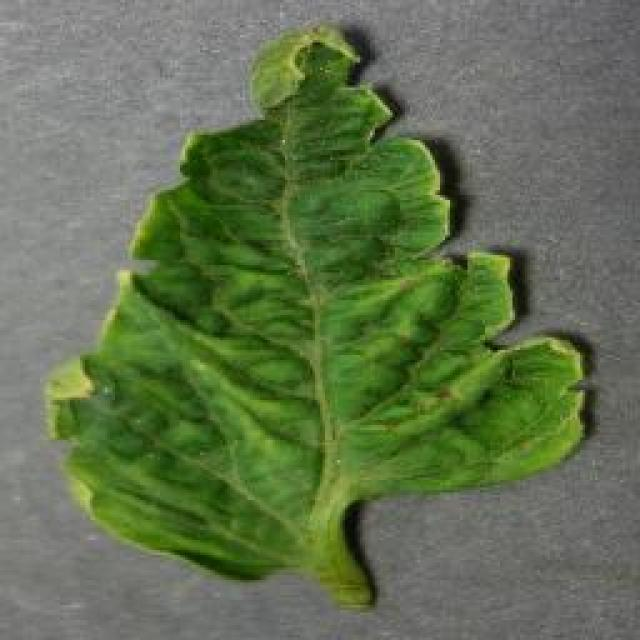Tom_Yellow_Leaf_Curl_Virus: (80, 41, 516, 532)
